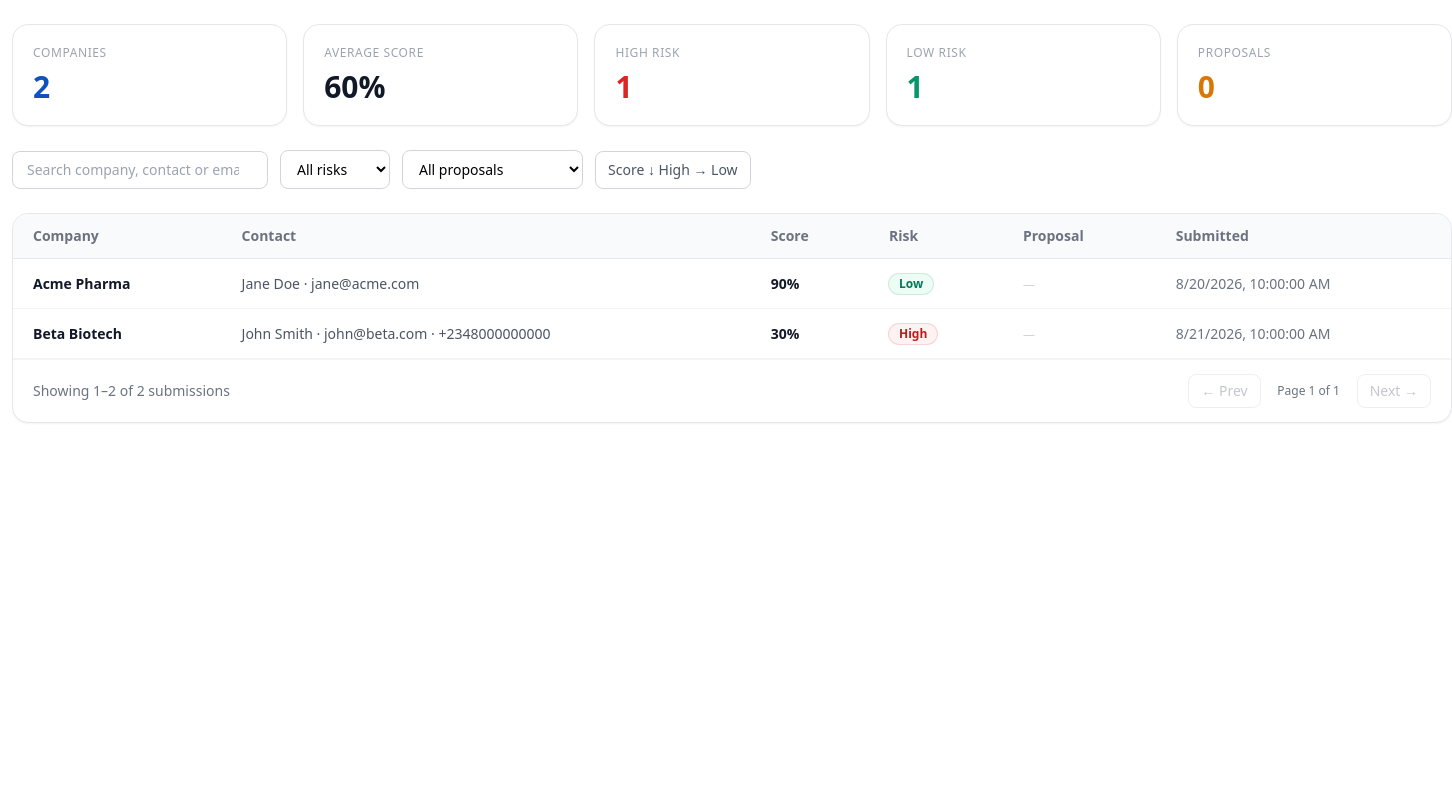
Test: DashboardTable › expands a row to show its gaps on click
Click the text "Beta Biotech" at [117, 334], box top-left (13, 308), bottom-right (222, 358)
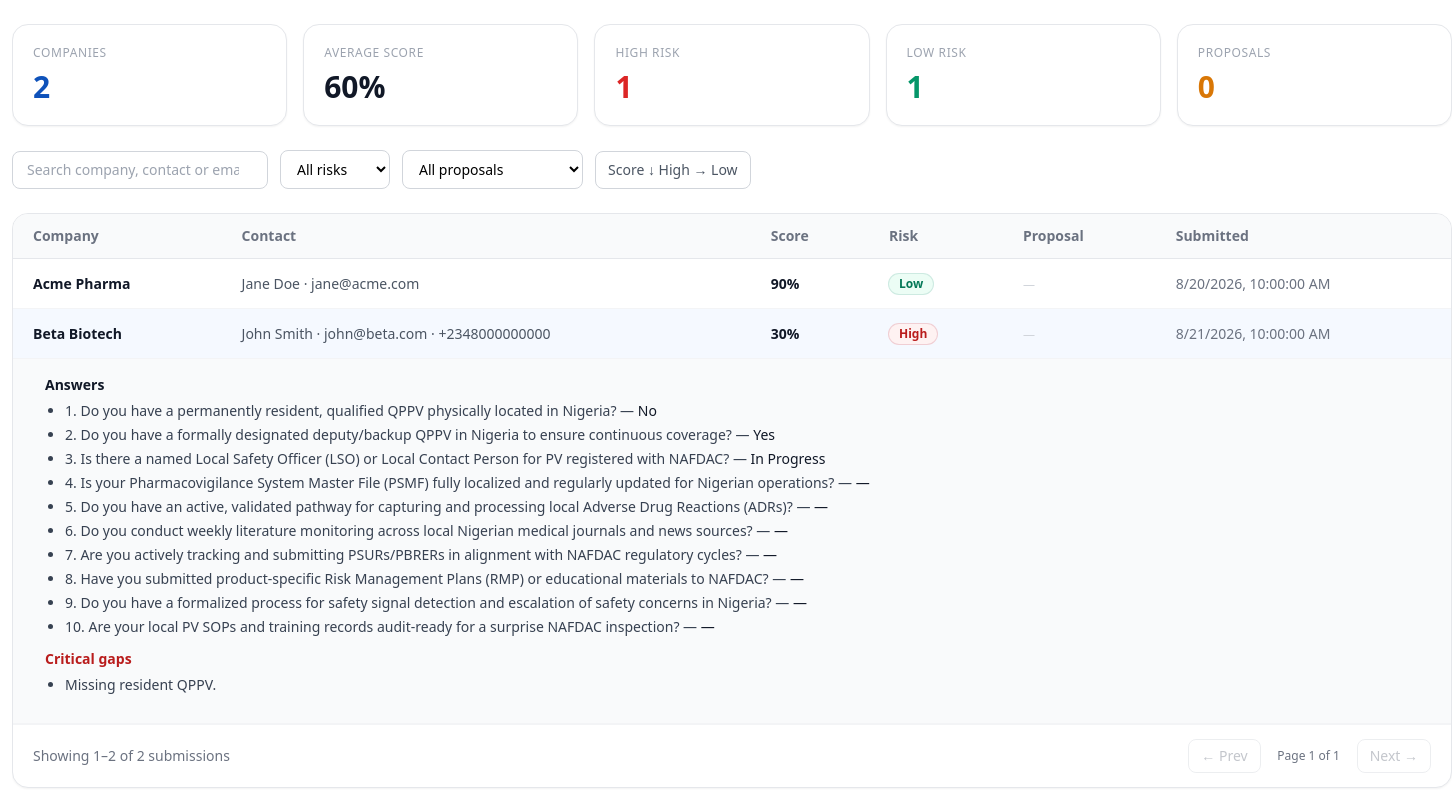
Result: the list item "Missing resident QPPV." is shown at top-left (65, 675), bottom-right (216, 694)
